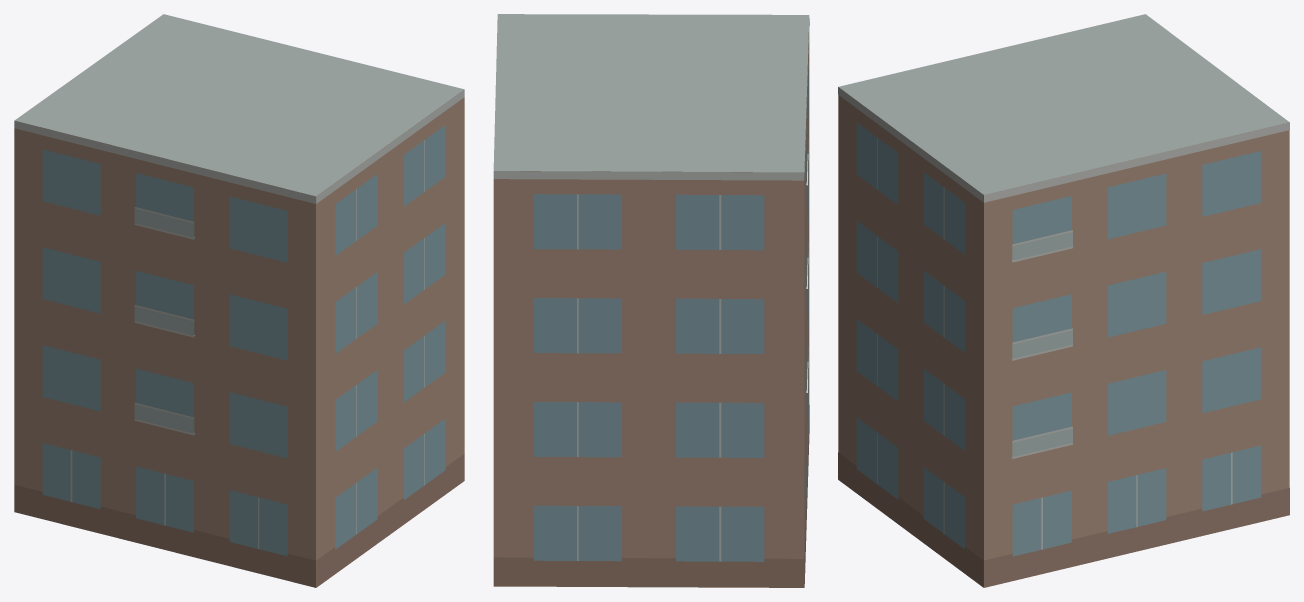
The model's file is survey-upis-32834283.glb.
The picture shows the model from 3 angles, left to right: view 1: azimuth 30°, elevation 25°; view 2: azimuth 150°, elevation 25°; view 3: azimuth 270°, elevation 25°; orthographic projection. The views are drawn at different scales.
Parts seen in each view (by area): view 1: survey-upis-32834283.tmp; view 2: survey-upis-32834283.tmp; view 3: survey-upis-32834283.tmp.
Boxes of the visible parts, <box> form: survey-upis-32834283.tmp: <box>14,14,464,587</box>; survey-upis-32834283.tmp: <box>493,14,809,587</box>; survey-upis-32834283.tmp: <box>838,14,1289,587</box>.
Size of the model in its own units: 12.24 by 12.38 by 12.91.
